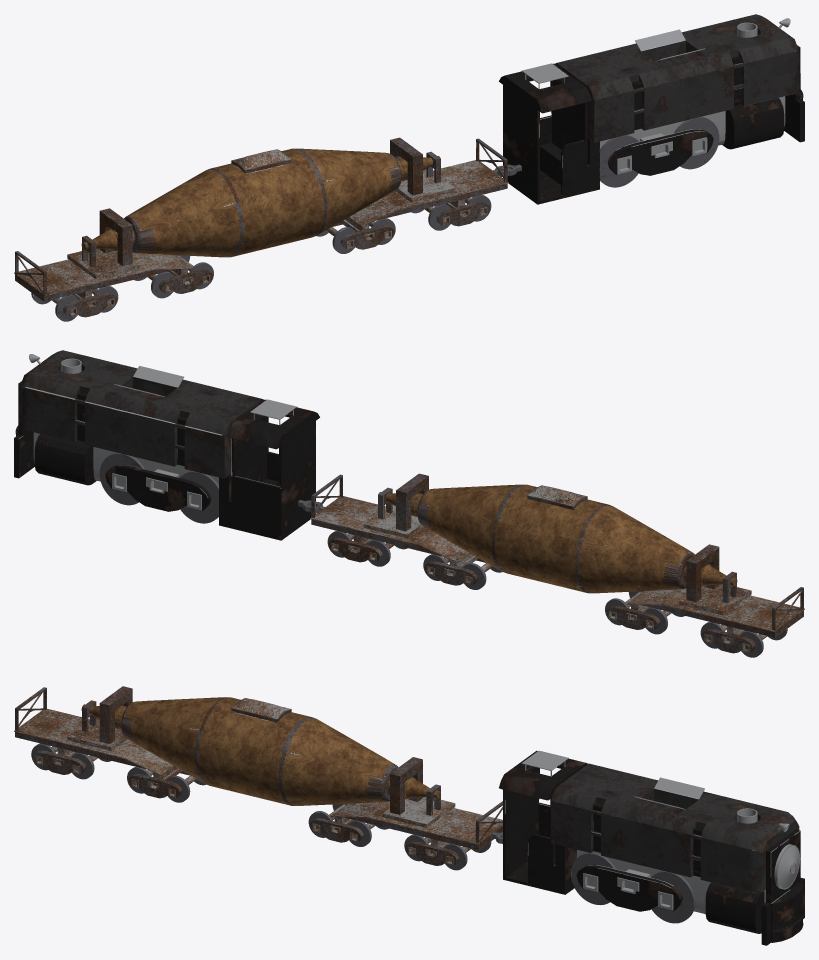
File: train_model.fbx
The picture shows the model from 3 angles, top to bottom: view 1: azimuth 30°, elevation 25°; view 2: azimuth 150°, elevation 25°; view 3: azimuth 330°, elevation 25°; orthographic projection.
Visible parts, largest first — view 1: torpedo_geo, engine_geo; view 2: torpedo_geo, engine_geo; view 3: engine_geo, torpedo_geo.
Part boxes in pixels (bbox=[...]): torpedo_geo: bbox=[14, 137, 508, 321]; engine_geo: bbox=[499, 14, 804, 204]; torpedo_geo: bbox=[310, 473, 804, 657]; engine_geo: bbox=[14, 350, 319, 540]; engine_geo: bbox=[499, 750, 804, 945]; torpedo_geo: bbox=[14, 686, 502, 870].
Size of the model in its own units: 3071 by 457 by 316.
